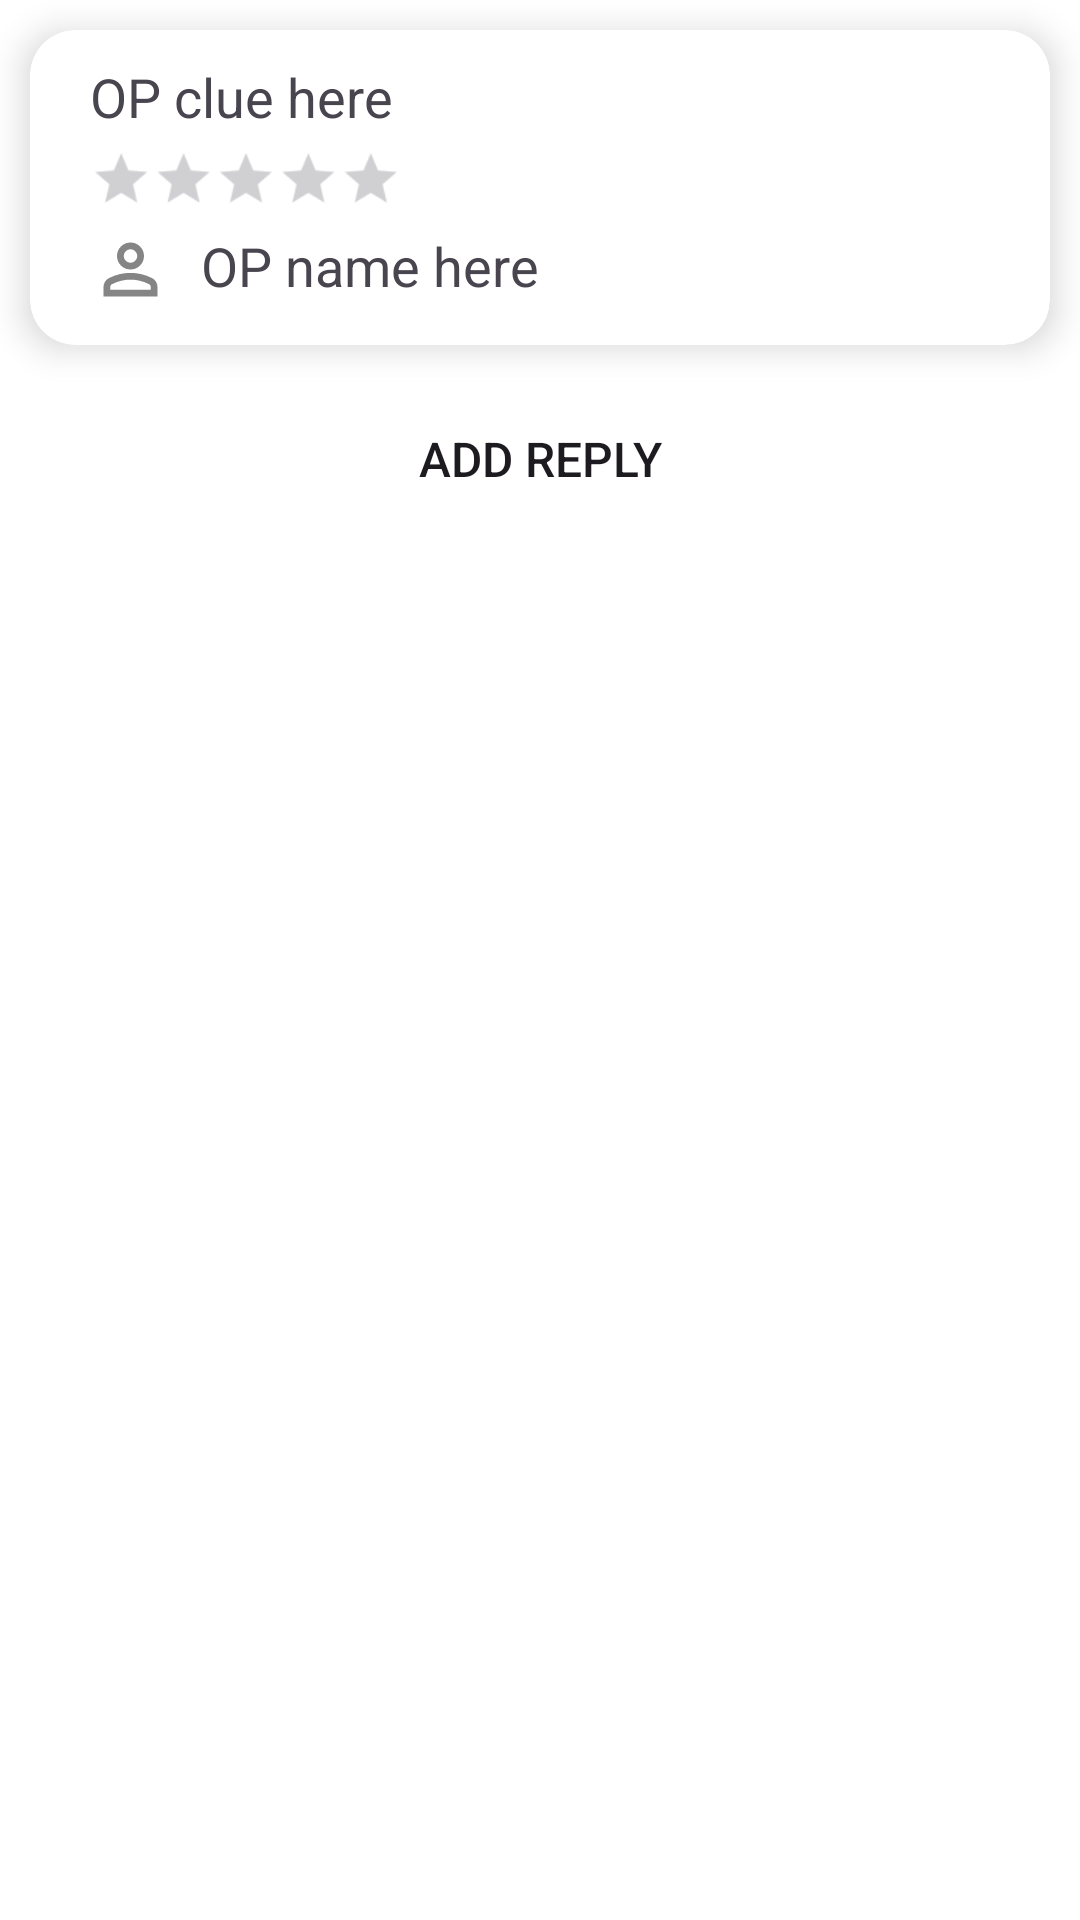

Screen size 1080px x 1920px. Icon name, then its box in pixels as [x1=x1, y1=y1, x2=x2, y2=y2]:
profile: [x1=103, y1=242, x2=158, y2=297]
